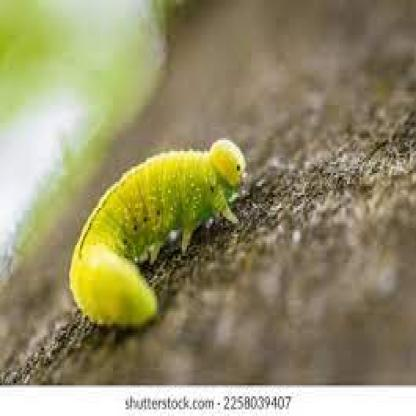sawfly: (66, 136, 250, 332)
